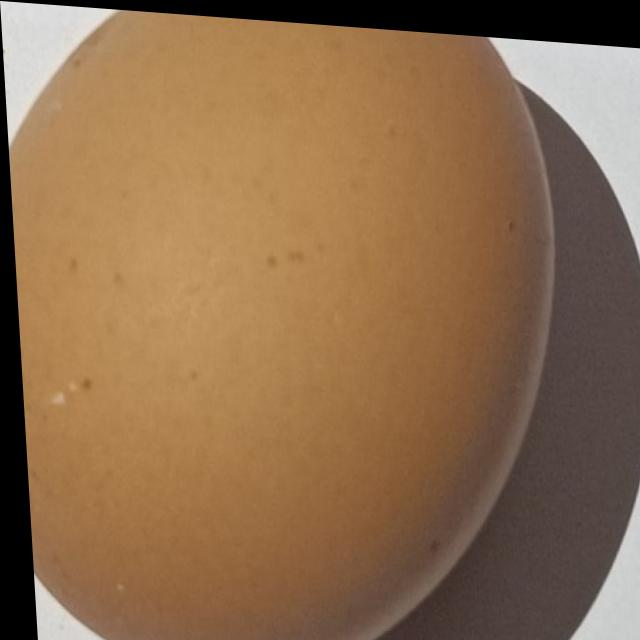fresh: (1, 0, 568, 640)
